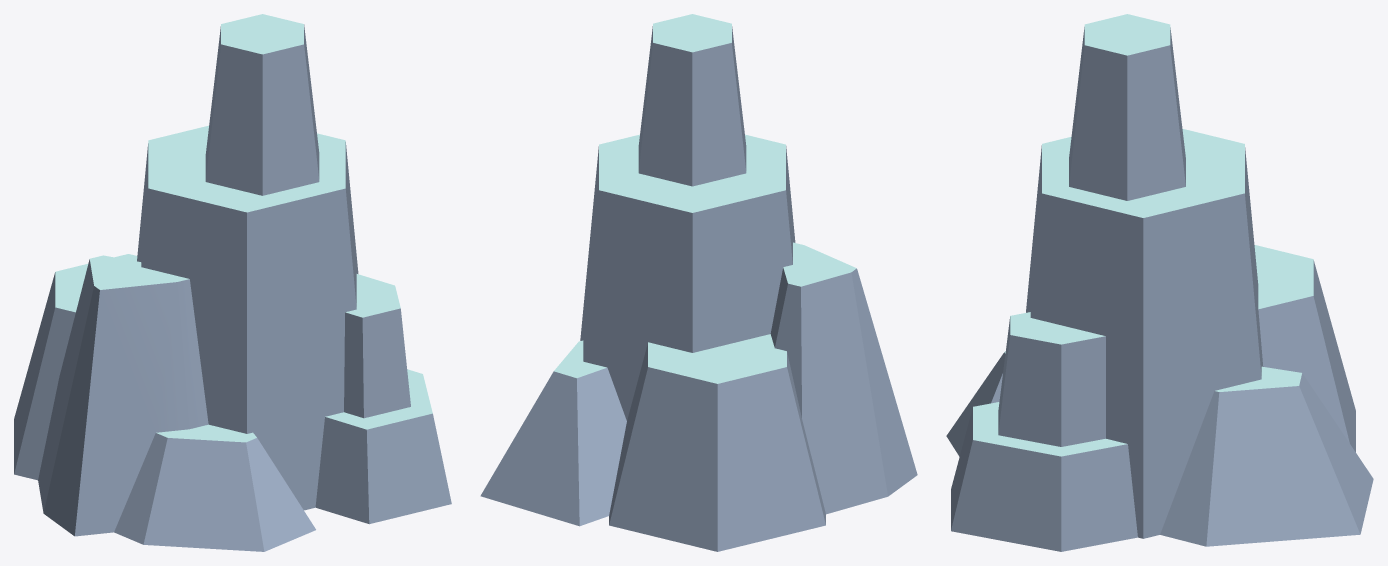
Rendered from rockFormationMedium.fbx.
3 renders of one model, left to right at view 1: azimuth 30°, elevation 25°; view 2: azimuth 150°, elevation 25°; view 3: azimuth 270°, elevation 25°, orthographic. The views are drawn at different scales.
Visible parts, largest first — view 1: rockFormationMedium; view 2: rockFormationMedium; view 3: rockFormationMedium.
Part boxes in pixels (x1,y1,x2,y2): rockFormationMedium: (14,14,451,551); rockFormationMedium: (480,14,917,551); rockFormationMedium: (946,14,1373,551).
Bounding box in the file's own units: 7.18 × 8.3 × 7.23.
